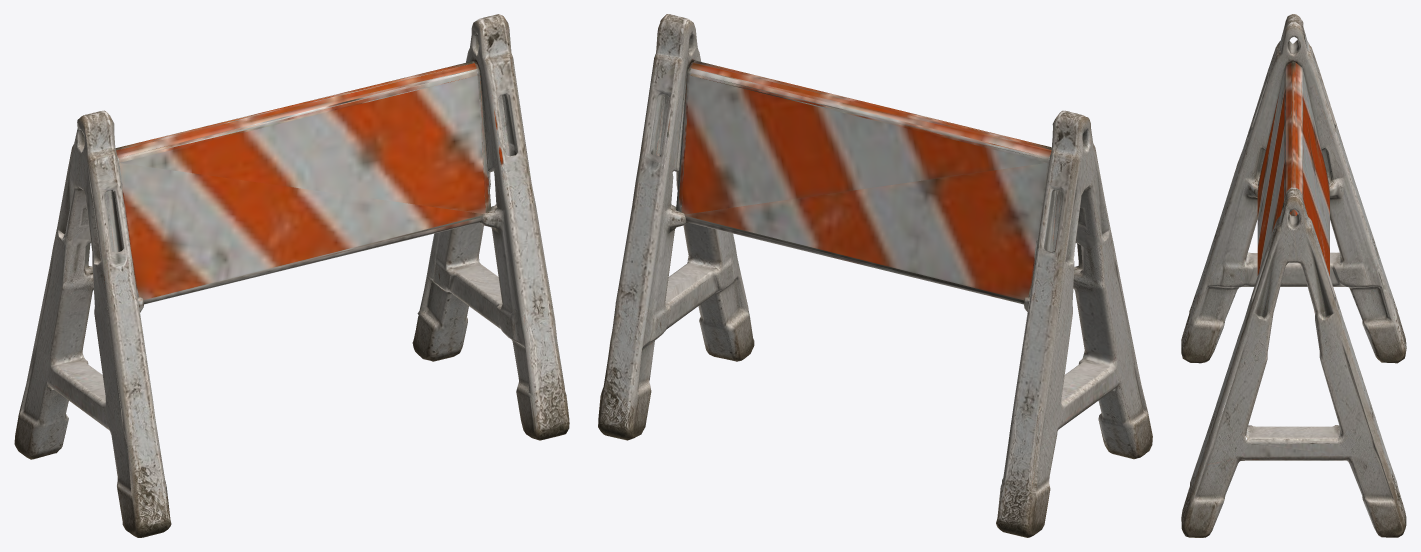
The model's file is p7-folding-barricade-t25.glb.
The picture shows the model from 3 angles, left to right: view 1: azimuth 30°, elevation 25°; view 2: azimuth 150°, elevation 25°; view 3: azimuth 270°, elevation 25°; orthographic projection. The views are drawn at different scales.
Visible parts, largest first — view 1: p7-folding-barricade-t25; view 2: p7-folding-barricade-t25; view 3: p7-folding-barricade-t25.
Boxes of the visible parts, x1=… form: p7-folding-barricade-t25: x1=14, y1=14, x2=569, y2=537; p7-folding-barricade-t25: x1=598, y1=14, x2=1152, y2=537; p7-folding-barricade-t25: x1=1181, y1=14, x2=1406, y2=537.
Bounding box in the file's own units: 1.2 × 1 × 0.6.
Materials: 1 (1 with a texture image).
